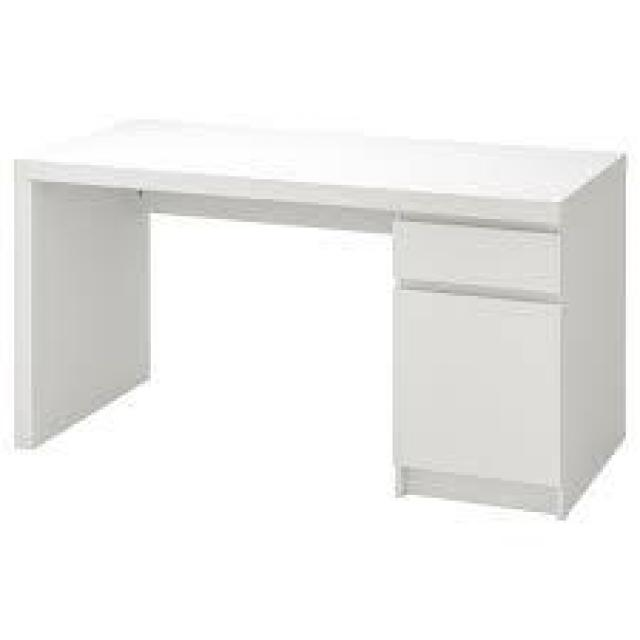desk: (9, 72, 628, 534)
